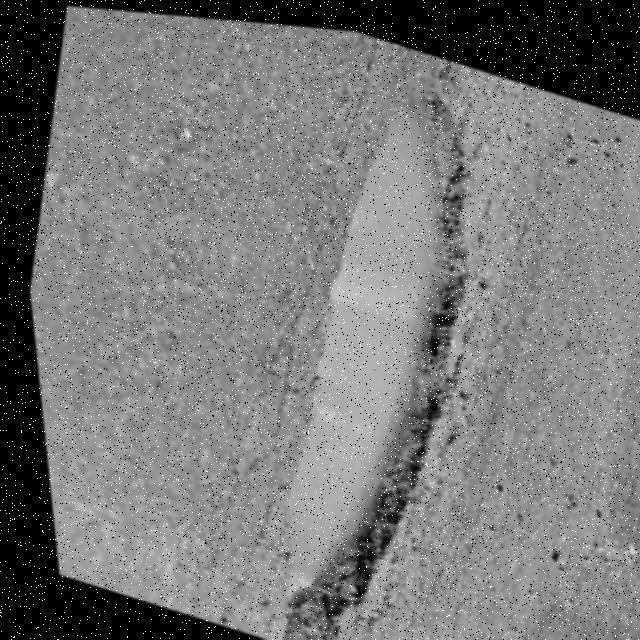pothole: (190, 28, 562, 640)
